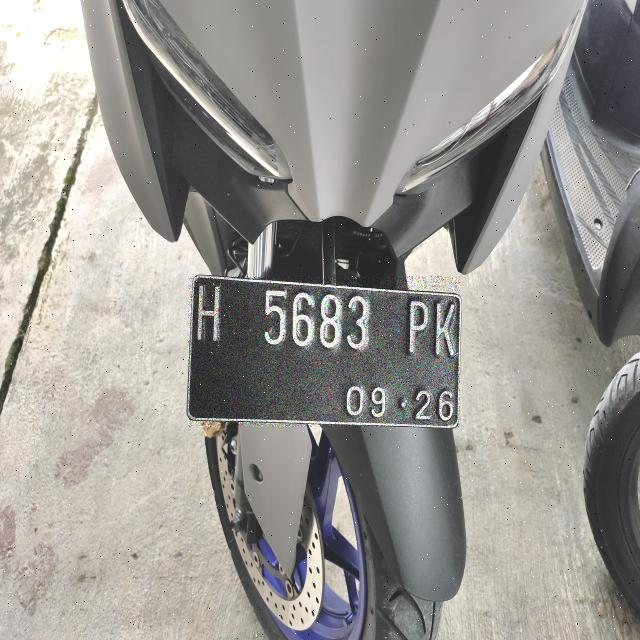plate: (188, 276, 459, 426)
